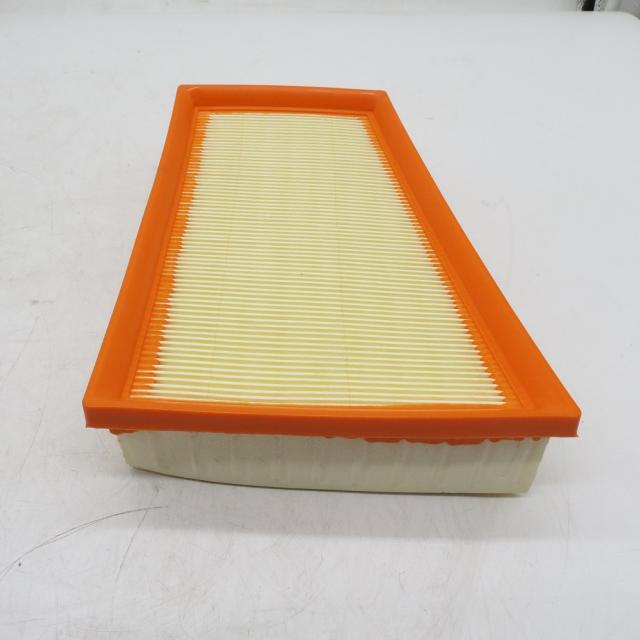air_filter: (56, 81, 597, 508)
